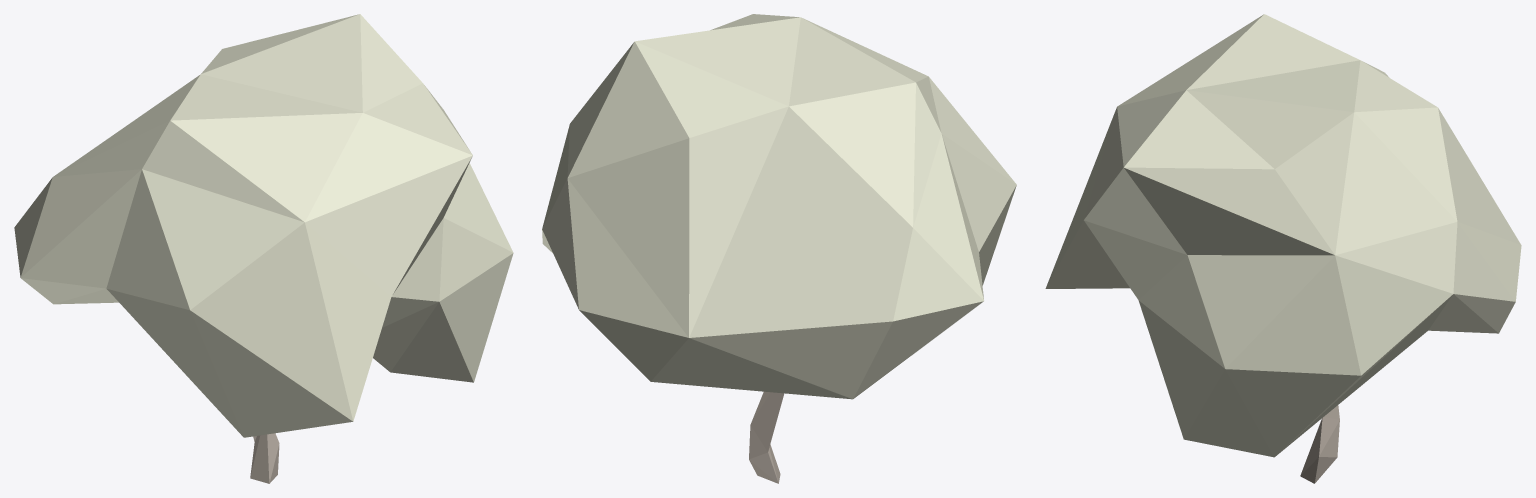
File: AraliaElata.glb
The picture shows the model from 3 angles, left to right: view 1: azimuth 30°, elevation 25°; view 2: azimuth 150°, elevation 25°; view 3: azimuth 270°, elevation 25°; orthographic projection.
Visible parts, largest first — view 1: Crown, Trunk; view 2: Crown, Trunk; view 3: Crown, Trunk.
Boxes of the visible parts, box(x1,y1,x2,y2) form: Crown: box(14, 14, 513, 437); Trunk: box(250, 433, 279, 483); Crown: box(542, 14, 1016, 399); Trunk: box(749, 391, 784, 483); Crown: box(1045, 14, 1521, 457); Trunk: box(1300, 405, 1339, 483).
Size of the model in its own units: 6.71 by 6.25 by 6.39.
